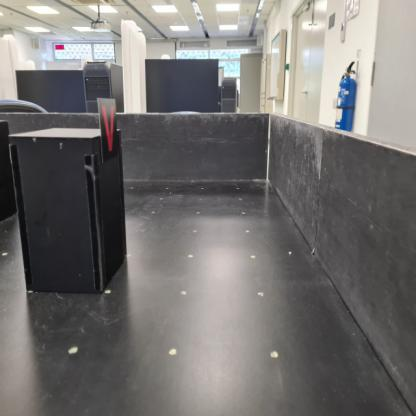v: (96, 96, 120, 164)
